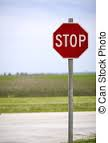stop_sign: (52, 23, 89, 58)
